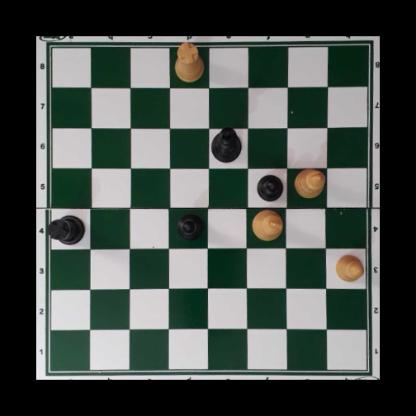black-king: (209, 127, 243, 162)
black-pawn: (257, 172, 283, 201), (177, 212, 202, 240)
black-rook: (49, 215, 86, 246)
white-bishop: (294, 169, 326, 199)
white-king: (253, 208, 282, 241)
white-pawn: (334, 253, 364, 282)
white-rook: (173, 42, 206, 81)
